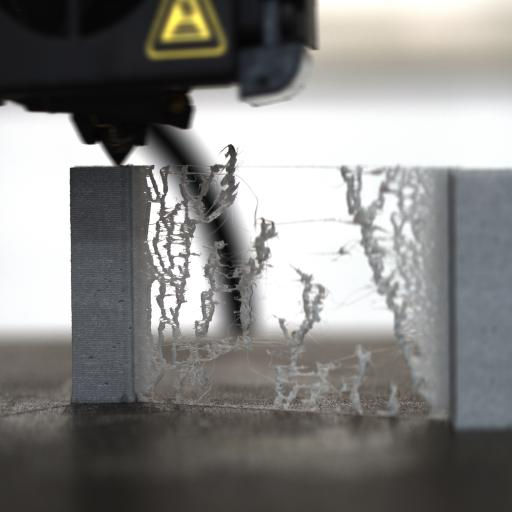stringing: (132, 162, 272, 408), (331, 156, 451, 422), (266, 275, 335, 409)
